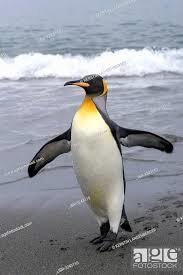king: (30, 65, 173, 249)
